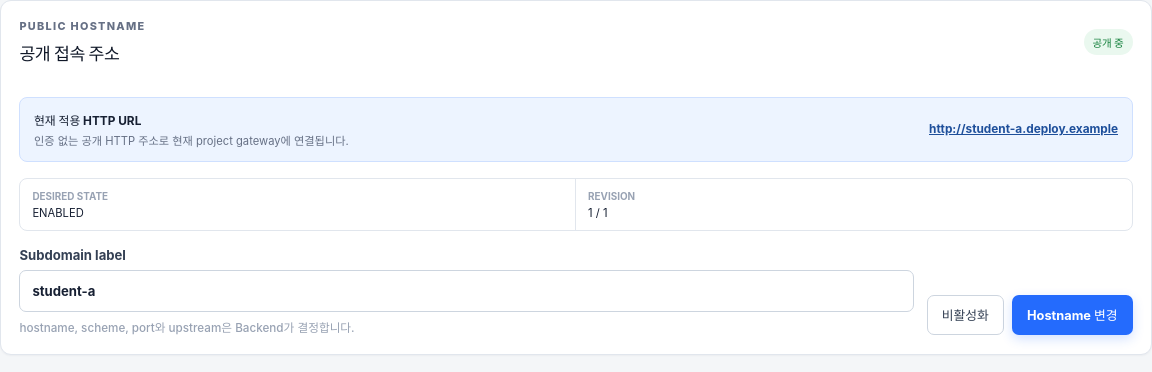
PublicRoutePanel › keeps the applied URL reachable while disable is pending
Click the button "비활성화" at (965,315), box [927, 295, 1004, 335]
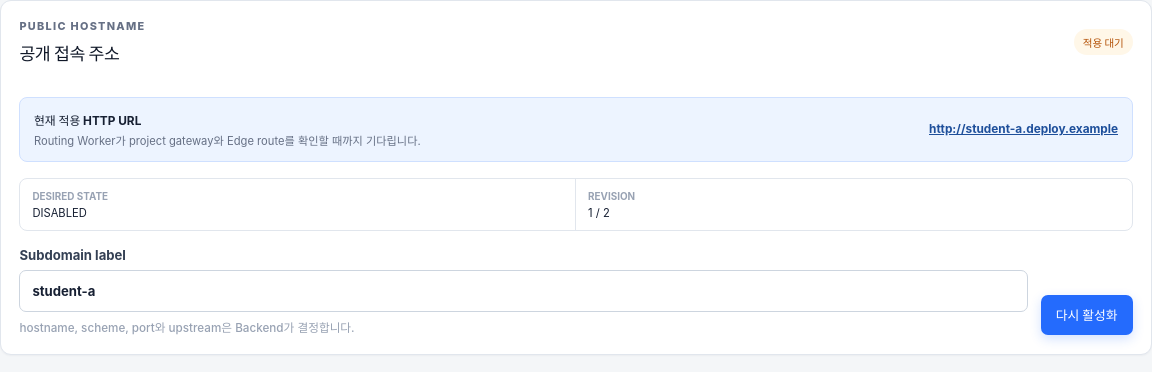
Check: the text "DISABLED" is shown, box [32, 206, 87, 220]
